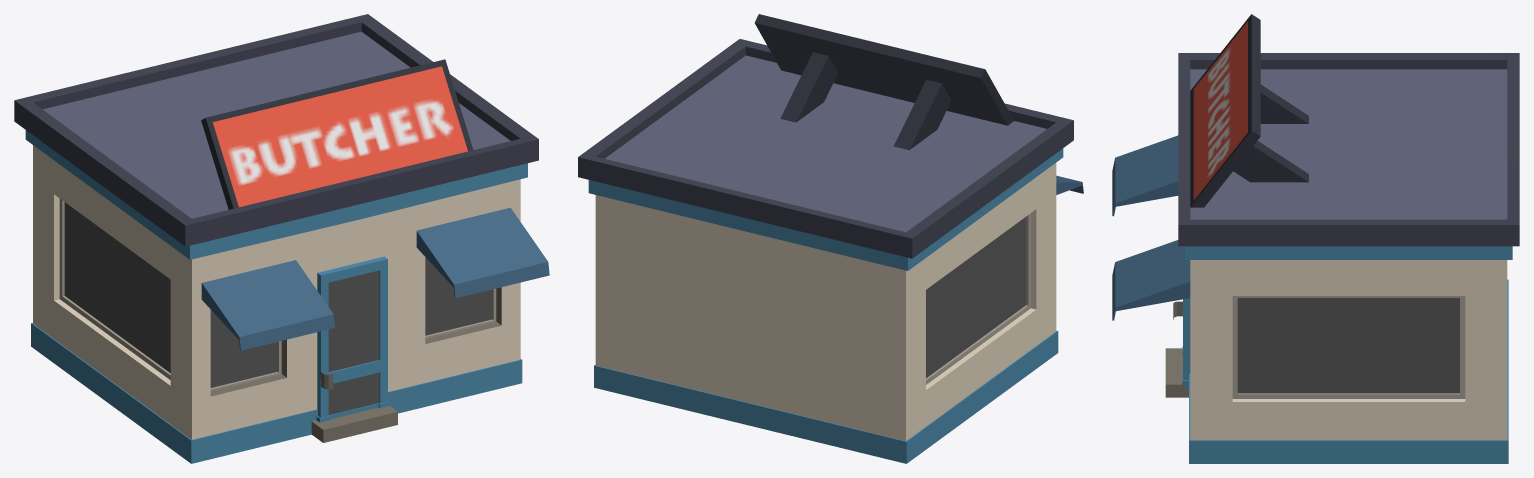
The model's file is butcher02_color01.fbx.
3 renders of one model, left to right at view 1: azimuth 30°, elevation 25°; view 2: azimuth 150°, elevation 25°; view 3: azimuth 270°, elevation 25°, orthographic. The views are drawn at different scales.
Parts seen in each view (by area): view 1: butcher02_color01; view 2: butcher02_color01; view 3: butcher02_color01.
Part boxes in pixels (left/top/right/bottom): butcher02_color01: left=14, top=14, right=549, bottom=463; butcher02_color01: left=578, top=14, right=1083, bottom=463; butcher02_color01: left=1112, top=14, right=1519, bottom=463.
Bounding box in the file's own units: 743 × 627 × 743.
